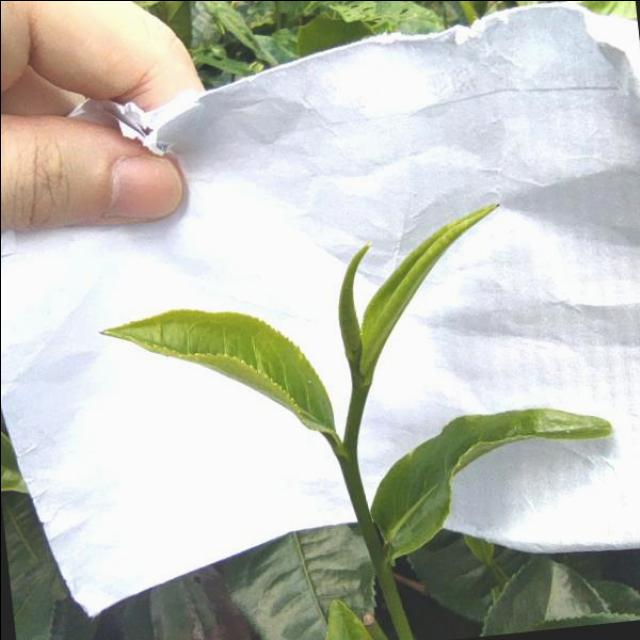Stem: (331, 440, 359, 473)
